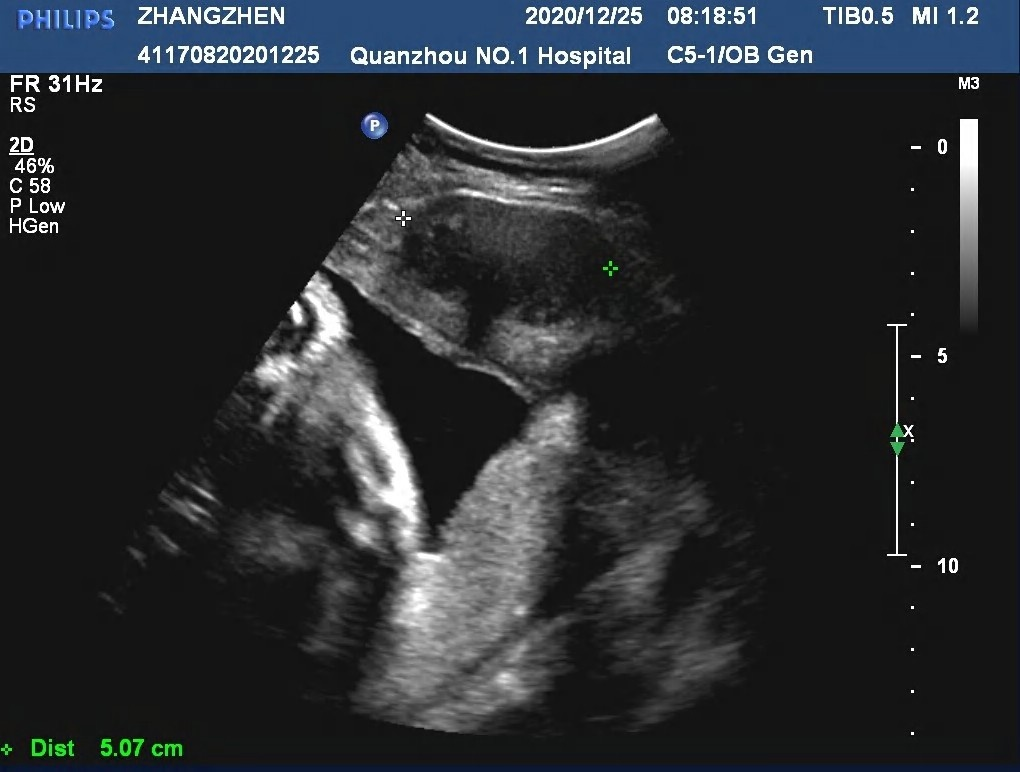肌瘤: (398, 193, 614, 319)
